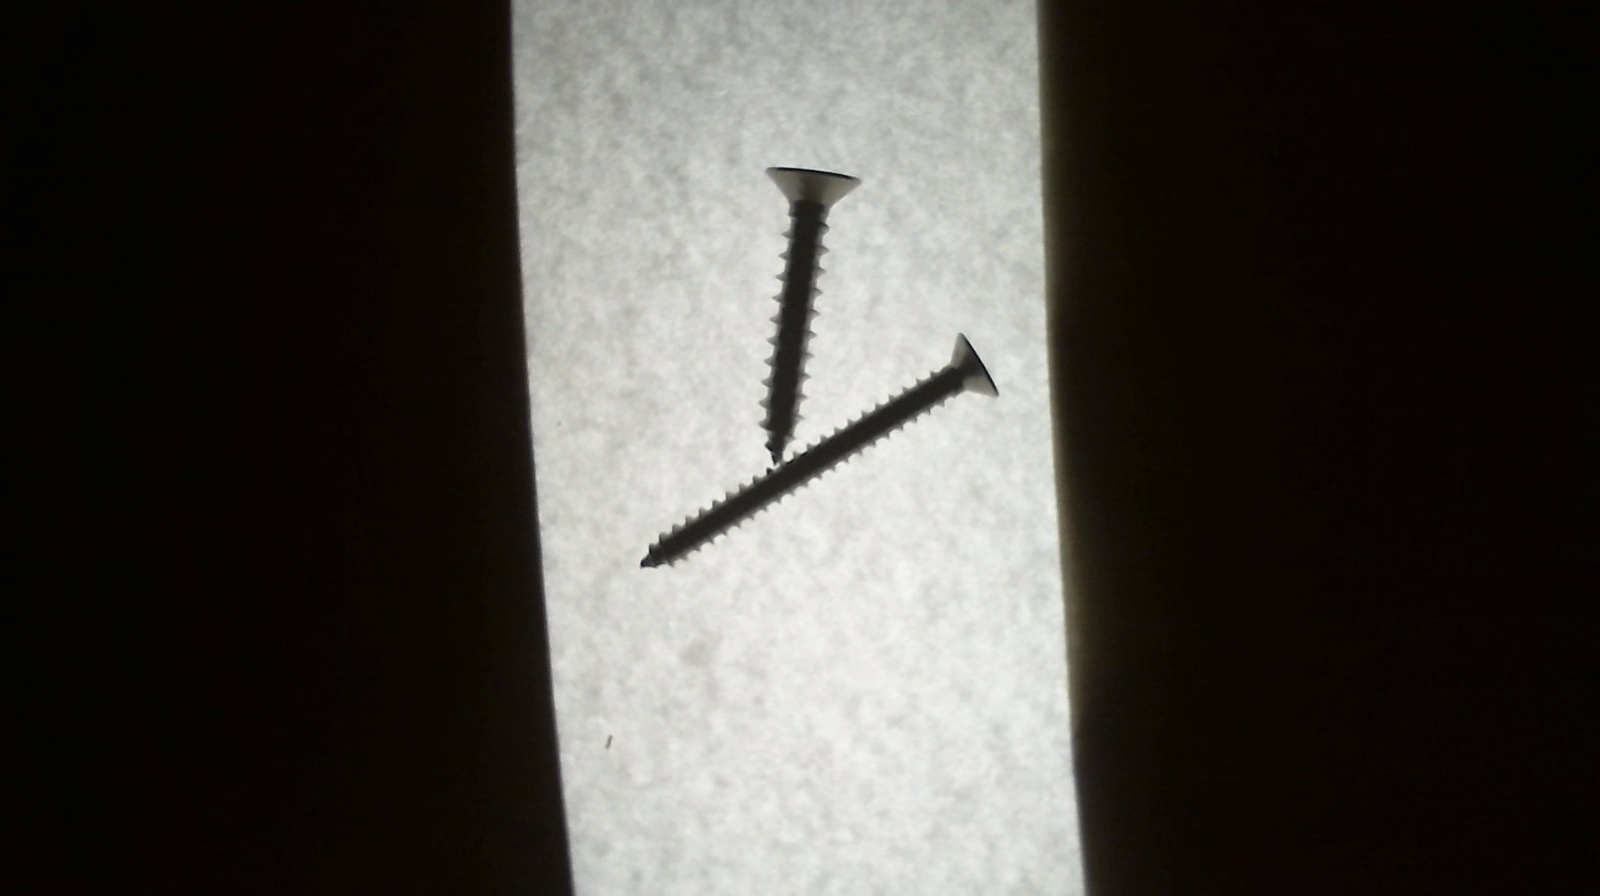S001: (734, 163, 868, 472)
S002: (634, 327, 1001, 574)
